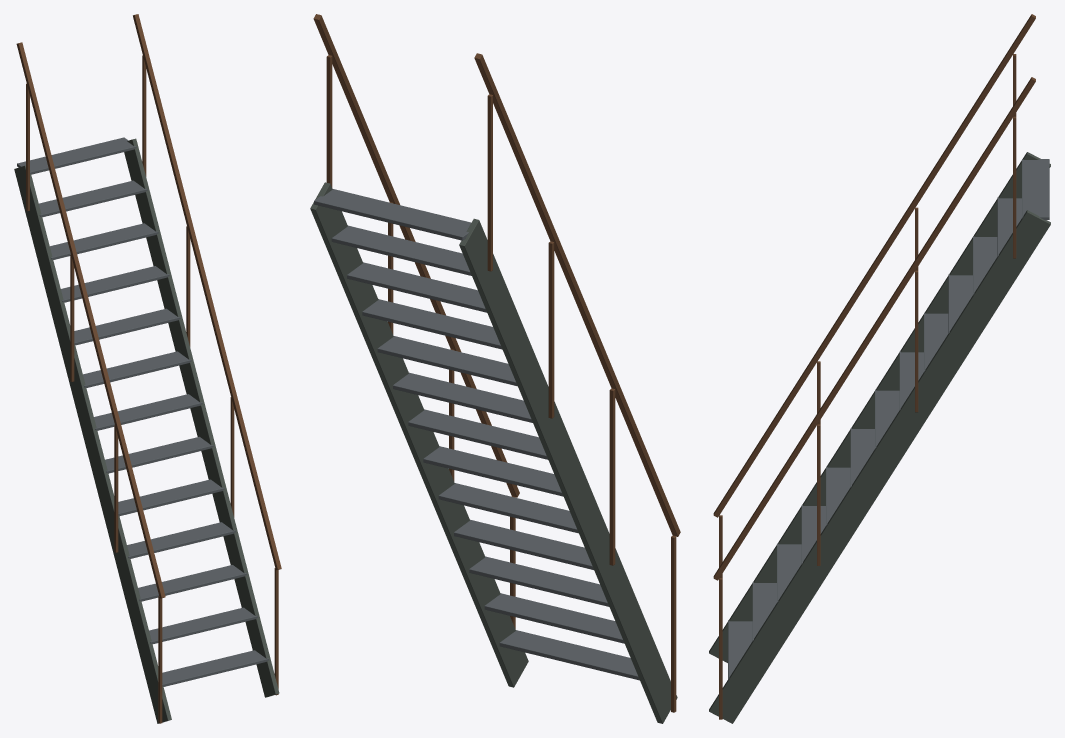
The model's file is PROP_Stair_Service_Historic.glb.
The picture shows the model from 3 angles, left to right: view 1: azimuth 30°, elevation 25°; view 2: azimuth 150°, elevation 25°; view 3: azimuth 270°, elevation 25°; orthographic projection. The views are drawn at different scales.
Parts seen in each view (by area): view 1: PROP_Stair_Service_Historic_Mesh; view 2: PROP_Stair_Service_Historic_Mesh; view 3: PROP_Stair_Service_Historic_Mesh.
Boxes of the visible parts, box(x1,y1,x2,y2) form: PROP_Stair_Service_Historic_Mesh: box(14, 14, 281, 723); PROP_Stair_Service_Historic_Mesh: box(310, 14, 680, 723); PROP_Stair_Service_Historic_Mesh: box(709, 14, 1050, 723).
Size of what is drawn, in the model's own units: 0.894 by 4.15 by 1.98.
